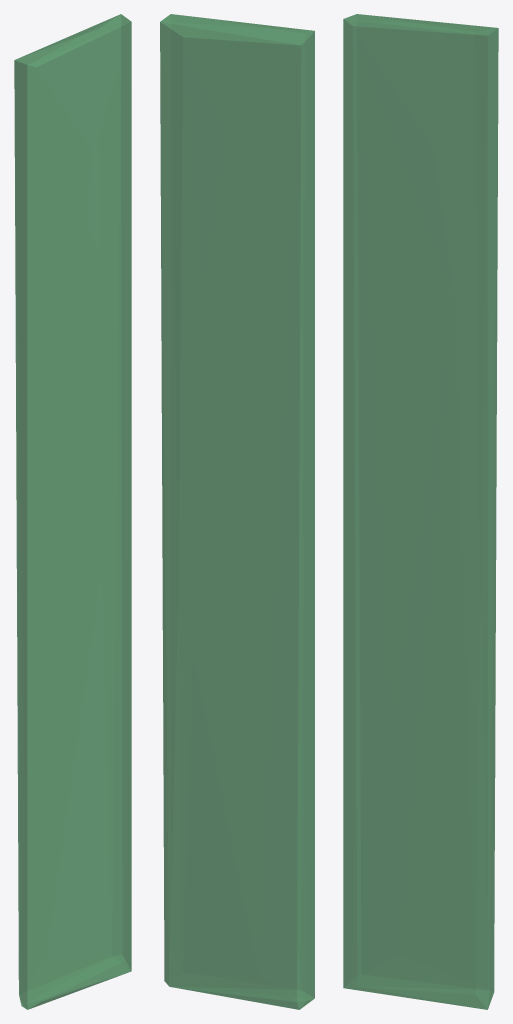
3 renders of one model, left to right at view 1: azimuth 30°, elevation 25°; view 2: azimuth 150°, elevation 25°; view 3: azimuth 330°, elevation 25°, orthographic. The views are drawn at different scales.
Visible parts, largest first — view 1: Shape_IndexedFaceSet.008_Shape_IndexedFaceSet.8607; view 2: Shape_IndexedFaceSet.008_Shape_IndexedFaceSet.8607; view 3: Shape_IndexedFaceSet.008_Shape_IndexedFaceSet.8607.
Boxes of the visible parts, left/top/right/bottom form: Shape_IndexedFaceSet.008_Shape_IndexedFaceSet.8607: left=14, top=14, right=131, bottom=1009; Shape_IndexedFaceSet.008_Shape_IndexedFaceSet.8607: left=160, top=14, right=314, bottom=1009; Shape_IndexedFaceSet.008_Shape_IndexedFaceSet.8607: left=343, top=14, right=498, bottom=1009.
Size of the model in its own units: 0.1352 by 1 by 0.0551.
